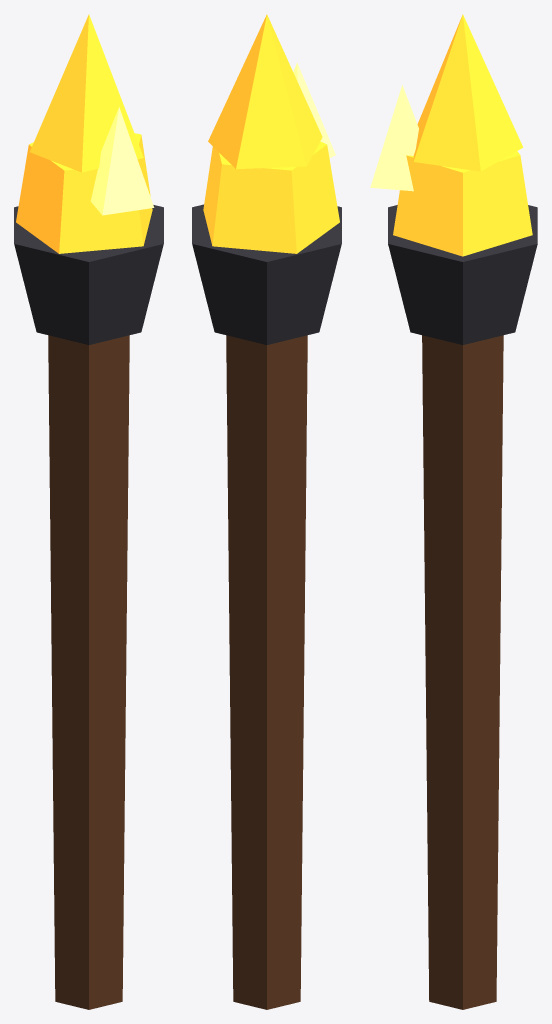
File: tocha.glb
3 views of the same model, side by side, from view 1: azimuth 30°, elevation 25°; view 2: azimuth 150°, elevation 25°; view 3: azimuth 270°, elevation 25° (orthographic).
Visible parts, largest first — view 1: tocha; view 2: tocha; view 3: tocha.
Boxes of the visible parts, x1,y1,x2,y2 form: tocha: (14, 14, 163, 1009); tocha: (192, 14, 341, 1009); tocha: (370, 14, 537, 1009).
Bounding box in the file's own units: 0.2 × 1.25 × 0.1937.
